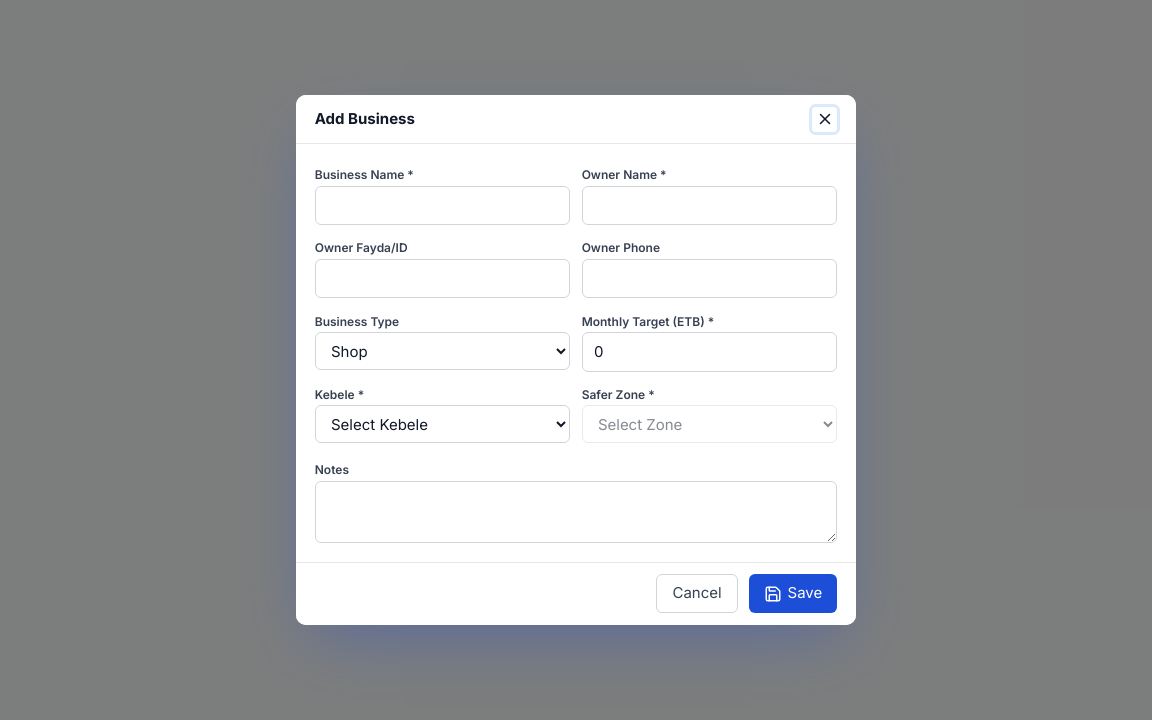
it: Business form validation (real component) › rejects empty submit with required-field errors and does not create
Click the button "Save".
click(793, 594)  # box [749, 574, 837, 613]
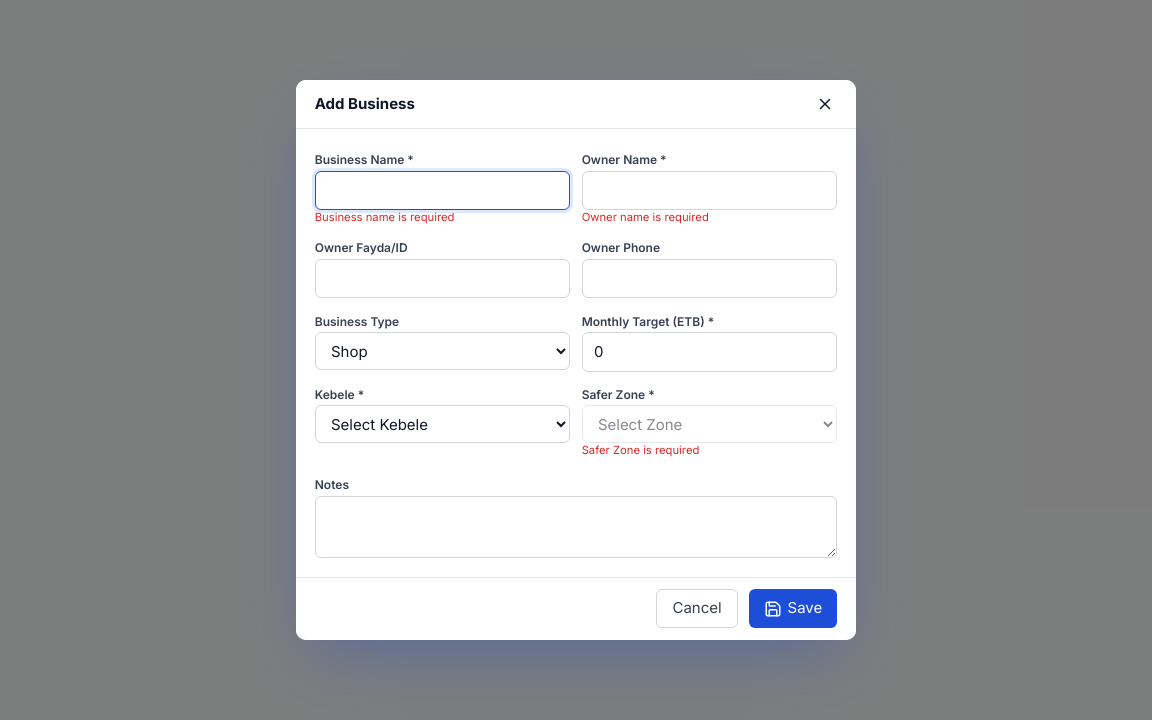
expect the text "Business name is required" is shown: met, box [315, 210, 454, 224]
